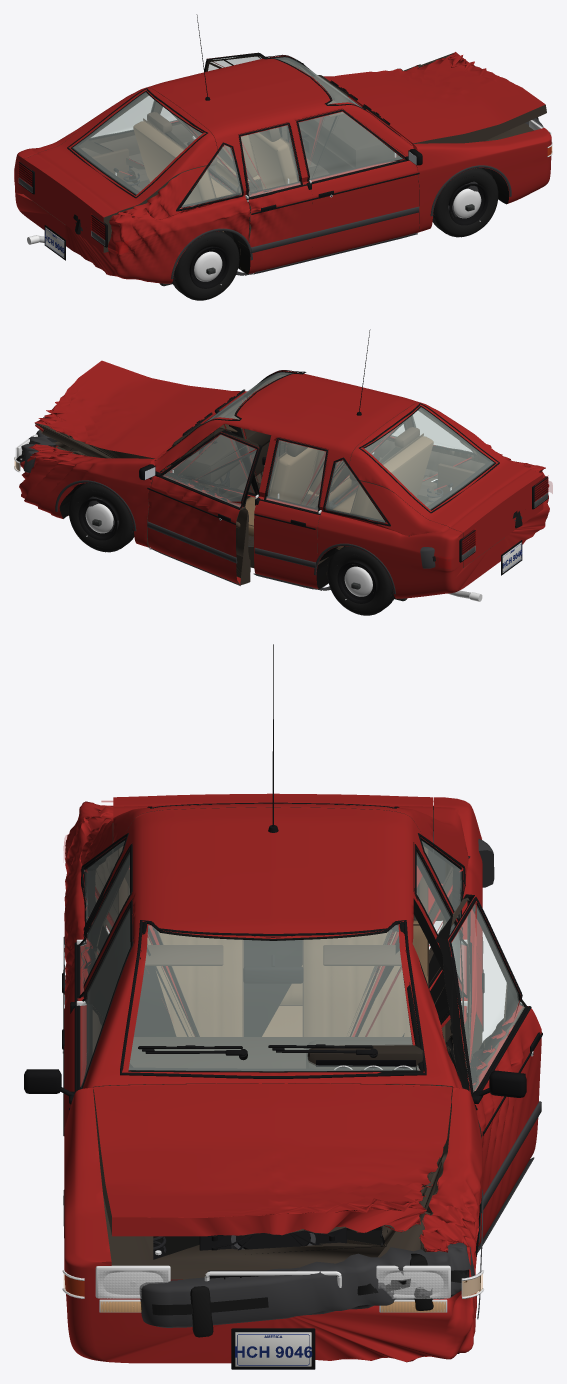
The model's file is hatchback85_damaged.glb.
The picture shows the model from 3 angles, top to bottom: view 1: azimuth 30°, elevation 25°; view 2: azimuth 150°, elevation 25°; view 3: azimuth 270°, elevation 25°; orthographic projection. The views are drawn at different scales.
Visible parts, largest first — view 1: Body, Hood, Interior, Hatch, Door_FR, Glass_Hatch, Door_RR, Glass_FR, Glass, Wheel_RR_mesh, Wheel_FR_mesh, Glass_RR (+9 smaller); view 2: Body, Hood, Interior, Hatch, Door_FL, Glass_Hatch, Door_RL, Glass_FL, Glass, Wheel_RL_mesh, Wheel_FL_mesh, Glass_RL (+8 smaller); view 3: Body, Hood, Glass, Interior, Bumper_F, Door_FL, Ends, Glass_FL, Hatch, Trim_FL, Trim, Lamps_Head (+11 smaller).
Part boxes in pixels (x1,y1,x2,y2): Body: (14,55,551,283); Hood: (325,52,546,157); Interior: (92,75,394,233); Hatch: (23,87,217,252); Door_FR: (295,109,419,258); Glass_Hatch: (67,88,207,198); Door_RR: (238,122,312,273); Glass_FR: (296,109,404,182); Glass: (91,54,400,210); Wheel_RR_mesh: (172,231,239,300); Wheel_FR_mesh: (432,168,498,237); Glass_RR: (239,125,302,199); Body: (19,370,549,598); Hood: (34,360,243,460); Interior: (171,404,474,549); Hatch: (349,402,543,567); Door_FL: (147,430,262,584); Glass_Hatch: (359,403,499,513); Door_RL: (254,437,328,588); Glass_FL: (161,431,259,508); Glass: (166,370,472,524); Wheel_RL_mesh: (327,546,394,615); Wheel_FL_mesh: (68,483,134,552); Glass_RL: (264,440,328,511); Body: (64,797,482,1363); Hood: (93,1083,452,1236); Glass: (82,838,461,1078); Interior: (118,846,428,1084); Bumper_F: (139,1242,474,1337); Door_FL: (436,894,541,1246); Ends: (62,806,484,1369); Glass_FL: (446,897,526,1095); Hatch: (113,793,433,852); Trim_FL: (449,897,542,1252); Trim: (63,644,483,1319); Lamps_Head: (98,1271,447,1298).
Size of the model in its own units: 4.32 by 2.14 by 2.07.
33 materials, 5 textured.
